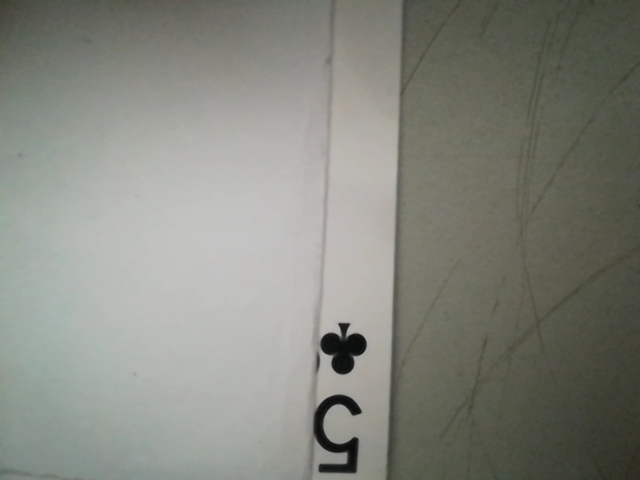mh 5: (302, 320, 386, 472)
